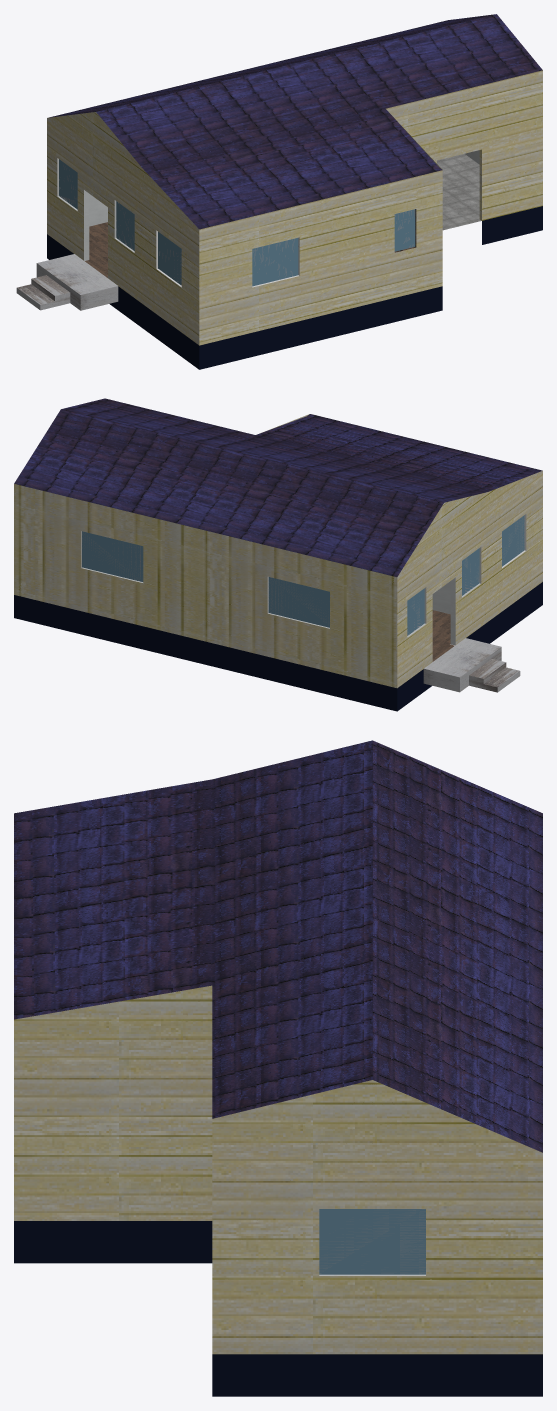
The model's file is player_house.gltf.
3 views of the same model, one above another, from view 1: azimuth 30°, elevation 25°; view 2: azimuth 150°, elevation 25°; view 3: azimuth 270°, elevation 25° (orthographic). The views are drawn at different scales.
Parts seen in each view (by area): view 1: ExternalWalls, Roof, Windows, Cube, Floor-col, Doorways, MainInternalWalls-col; view 2: ExternalWalls, Roof, Windows, Cube, Floor-col, MainInternalWalls-col, Doorways; view 3: Roof, ExternalWalls, Windows.
Boxes of the visible parts, bbox=[...] form: ExternalWalls: bbox=[47, 70, 542, 369]; Roof: bbox=[49, 14, 542, 229]; Windows: bbox=[57, 158, 416, 287]; Cube: bbox=[16, 254, 118, 310]; Floor-col: bbox=[85, 154, 481, 277]; Doorways: bbox=[84, 149, 481, 260]; MainInternalWalls-col: bbox=[89, 150, 479, 226]; ExternalWalls: bbox=[14, 414, 542, 711]; Roof: bbox=[14, 398, 542, 576]; Windows: bbox=[81, 514, 526, 637]; Cube: bbox=[423, 638, 520, 692]; Floor-col: bbox=[432, 610, 454, 661]; MainInternalWalls-col: bbox=[432, 581, 450, 614]; Doorways: bbox=[450, 577, 455, 645]; Roof: bbox=[14, 740, 542, 1152]; ExternalWalls: bbox=[14, 985, 542, 1396]; Windows: bbox=[319, 1209, 425, 1275].
Size of the model in its own units: 50.95 by 18.86 by 28.56.
14 materials, 12 textured.
